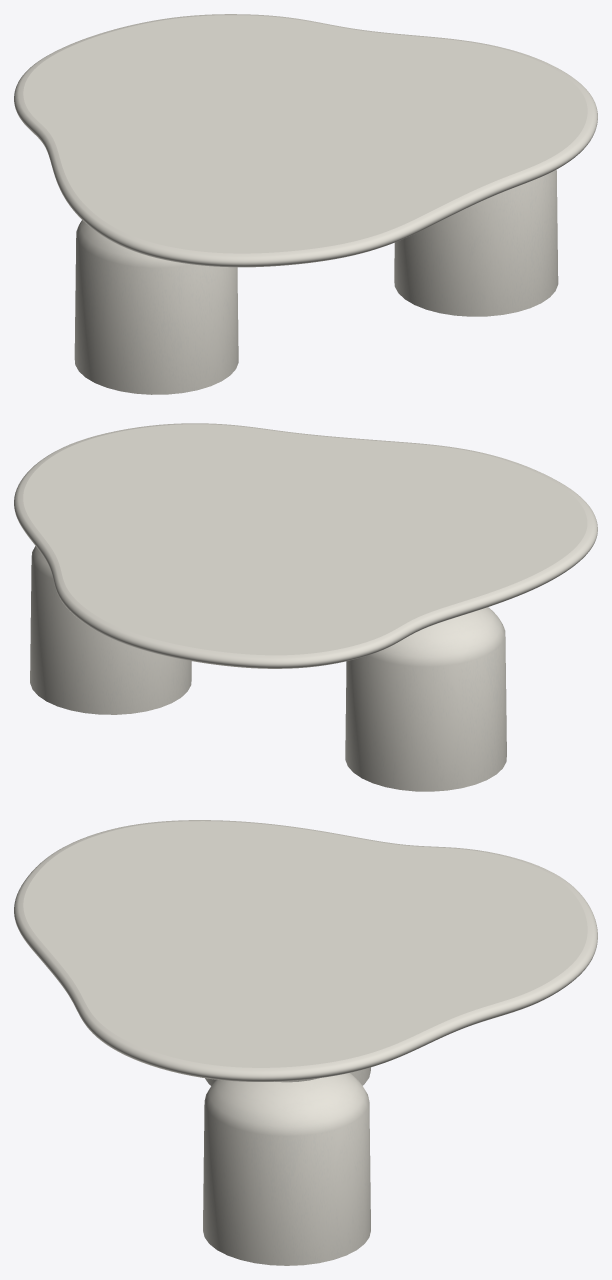
The model's file is pale_topone_round_tornado.glb.
3 renders of one model, top to bottom at view 1: azimuth 30°, elevation 25°; view 2: azimuth 150°, elevation 25°; view 3: azimuth 270°, elevation 25°, orthographic. The views are drawn at different scales.
Visible parts, largest first — view 1: round_topone, tornado; view 2: round_topone, tornado; view 3: round_topone, tornado.
Part boxes in pixels (x1,y1,x2,y2): round_topone: (14, 14, 597, 267); tornado: (74, 169, 558, 394); round_topone: (14, 423, 597, 668); tornado: (30, 546, 506, 791); round_topone: (14, 820, 597, 1081); tornado: (203, 1067, 370, 1265).
Size of the model in its own units: 6.83 by 2.5 by 6.6.
Materials: 1 (1 with a texture image).
